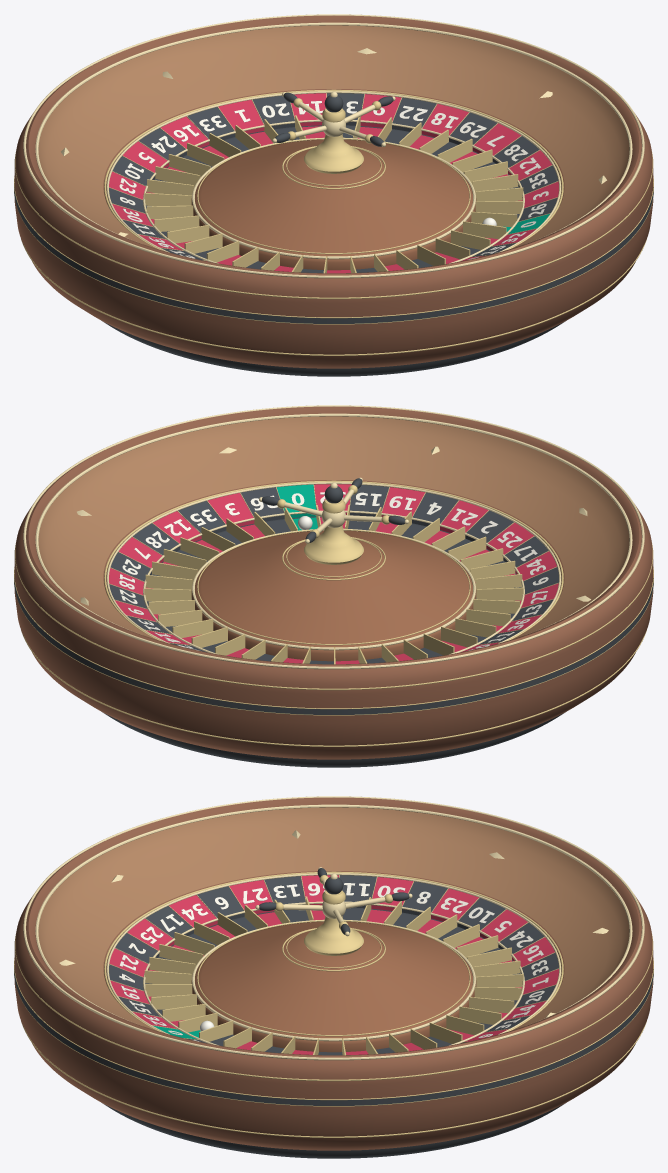
File: roulette.glb
3 views of the same model, one above another, from view 1: azimuth 30°, elevation 25°; view 2: azimuth 150°, elevation 25°; view 3: azimuth 270°, elevation 25° (orthographic).
Parts seen in each view (by area): view 1: Base_Walnut_Exterior, Base_Walnut_Bowl, Rotor_Walnut_Cone, Rotor_Brass, Rotor_Pocket_Red, Rotor_Pocket_Black, Base_Bright_Brass, Base_Ebony, Base_Brass, Rotor_Bright_Brass, Rotor_Lettering, Rotor_Ebony; view 2: Base_Walnut_Exterior, Base_Walnut_Bowl, Rotor_Walnut_Cone, Rotor_Brass, Rotor_Pocket_Black, Rotor_Pocket_Red, Base_Bright_Brass, Base_Ebony, Base_Brass, Rotor_Bright_Brass, Rotor_Lettering, Rotor_Pocket_Green (+1 smaller); view 3: Base_Walnut_Exterior, Base_Walnut_Bowl, Rotor_Walnut_Cone, Rotor_Brass, Rotor_Pocket_Black, Rotor_Pocket_Red, Base_Bright_Brass, Base_Ebony, Base_Brass, Rotor_Bright_Brass, Rotor_Lettering, Rotor_Ebony.
Part boxes in pixels (bbox=[...]): Base_Walnut_Exterior: bbox=[14, 15, 653, 368]; Base_Walnut_Bowl: bbox=[38, 25, 629, 248]; Rotor_Walnut_Cone: bbox=[191, 139, 476, 270]; Rotor_Brass: bbox=[109, 93, 558, 273]; Rotor_Pocket_Red: bbox=[109, 93, 558, 273]; Rotor_Pocket_Black: bbox=[109, 93, 558, 273]; Base_Bright_Brass: bbox=[23, 14, 644, 278]; Base_Ebony: bbox=[14, 187, 653, 376]; Base_Brass: bbox=[14, 89, 653, 355]; Rotor_Bright_Brass: bbox=[106, 91, 561, 263]; Rotor_Lettering: bbox=[119, 101, 548, 259]; Rotor_Ebony: bbox=[146, 92, 518, 192]; Base_Walnut_Exterior: bbox=[14, 406, 653, 759]; Base_Walnut_Bowl: bbox=[38, 416, 629, 639]; Rotor_Walnut_Cone: bbox=[191, 530, 476, 661]; Rotor_Brass: bbox=[109, 484, 558, 664]; Rotor_Pocket_Black: bbox=[109, 485, 558, 664]; Rotor_Pocket_Red: bbox=[109, 484, 558, 664]; Base_Bright_Brass: bbox=[23, 405, 644, 669]; Base_Ebony: bbox=[14, 578, 653, 767]; Base_Brass: bbox=[14, 480, 653, 746]; Rotor_Bright_Brass: bbox=[106, 477, 561, 654]; Rotor_Lettering: bbox=[119, 492, 548, 650]; Rotor_Pocket_Green: bbox=[276, 484, 317, 530]; Base_Walnut_Exterior: bbox=[14, 797, 653, 1150]; Base_Walnut_Bowl: bbox=[38, 807, 629, 1030]; Rotor_Walnut_Cone: bbox=[191, 921, 476, 1052]; Rotor_Brass: bbox=[109, 875, 558, 1055]; Rotor_Pocket_Black: bbox=[109, 875, 558, 1055]; Rotor_Pocket_Red: bbox=[109, 875, 558, 1054]; Base_Bright_Brass: bbox=[23, 796, 644, 1060]; Base_Ebony: bbox=[14, 969, 653, 1158]; Base_Brass: bbox=[14, 871, 653, 1137]; Rotor_Bright_Brass: bbox=[106, 867, 561, 1045]; Rotor_Lettering: bbox=[119, 883, 548, 1041]; Rotor_Ebony: bbox=[148, 868, 520, 973].
Bounding box in the file's own units: 1 × 0.301 × 1.
